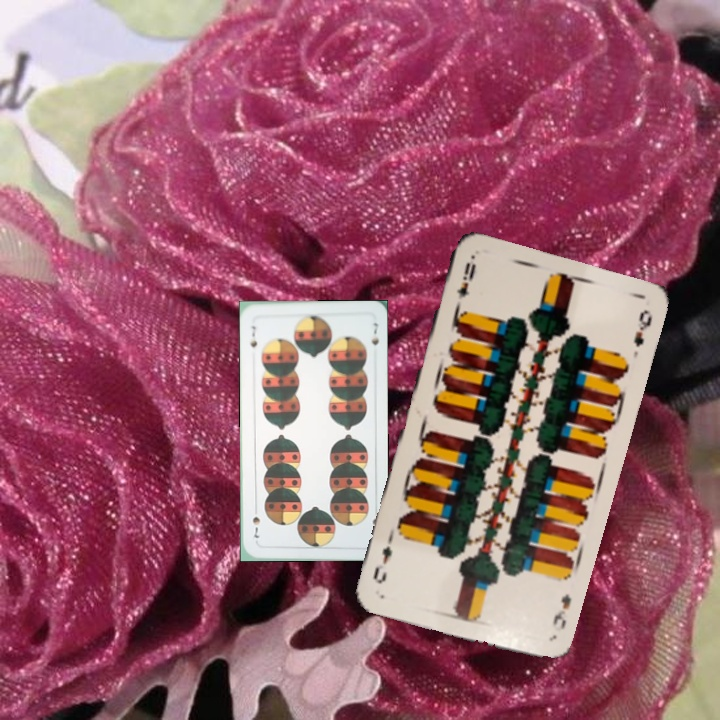E9: (452, 258, 479, 301), (548, 590, 574, 632)
S7: (246, 322, 259, 350)
